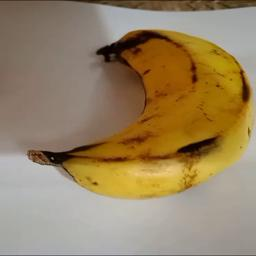Banana Semifresh: (24, 28, 256, 200)
